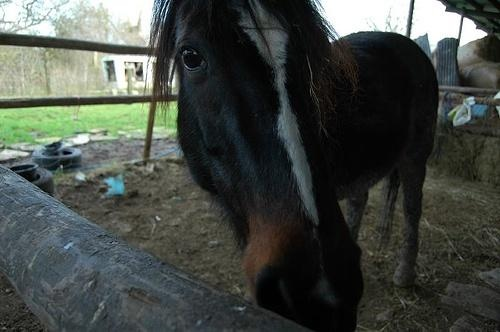horse: (152, 2, 440, 332)
